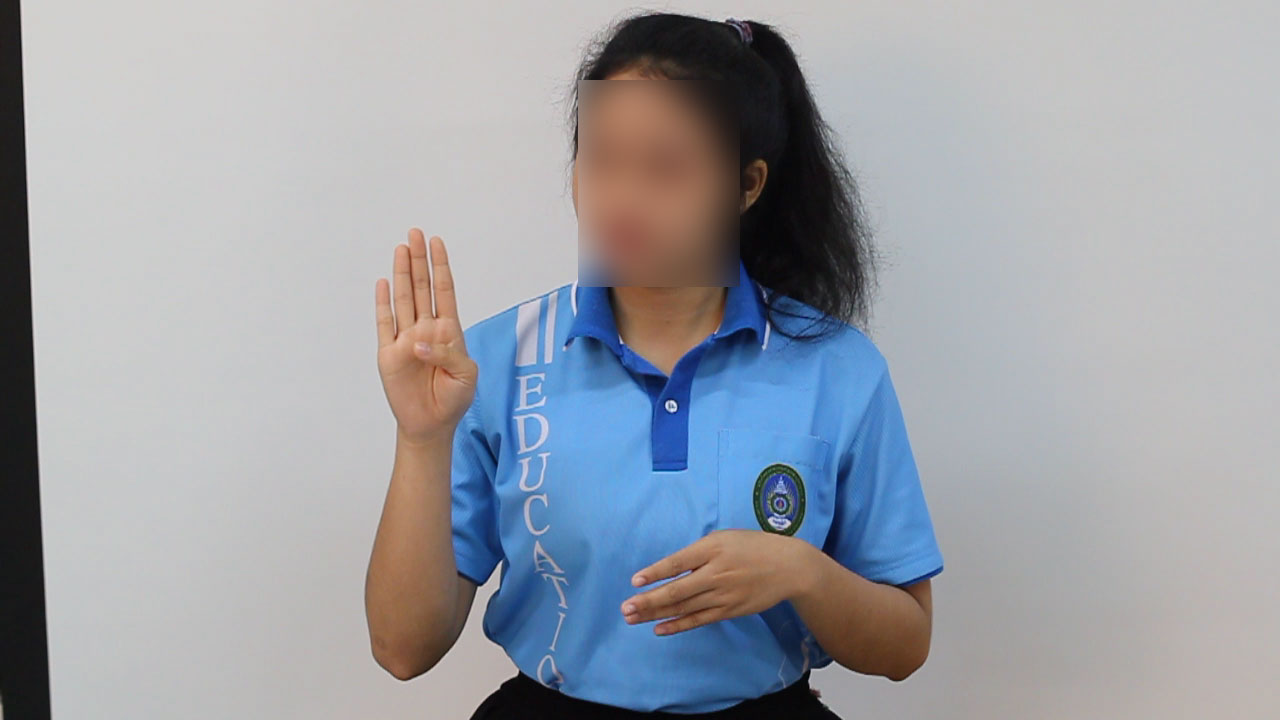bor: (350, 209, 499, 474)
